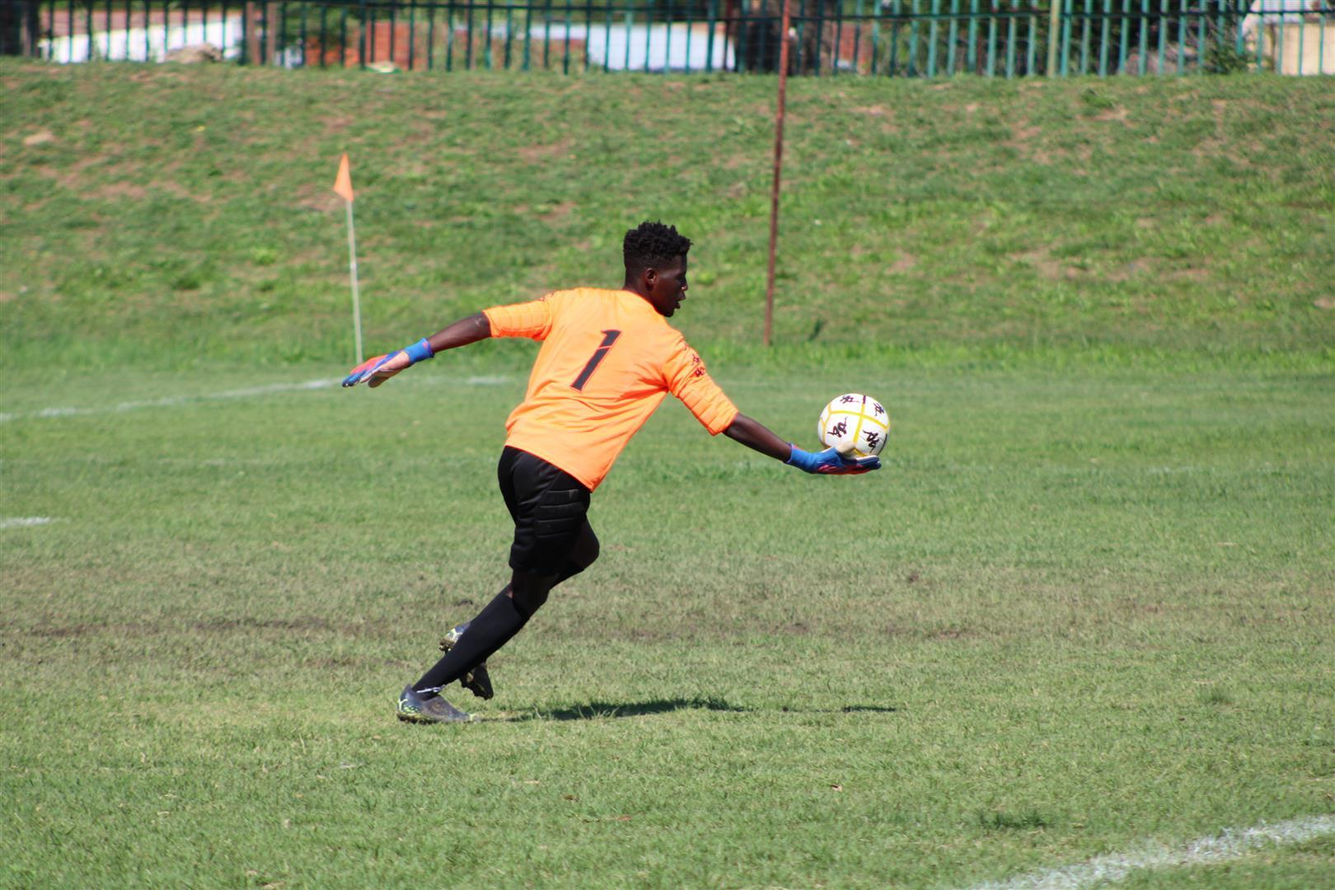ballon_football: (816, 392, 890, 461)
